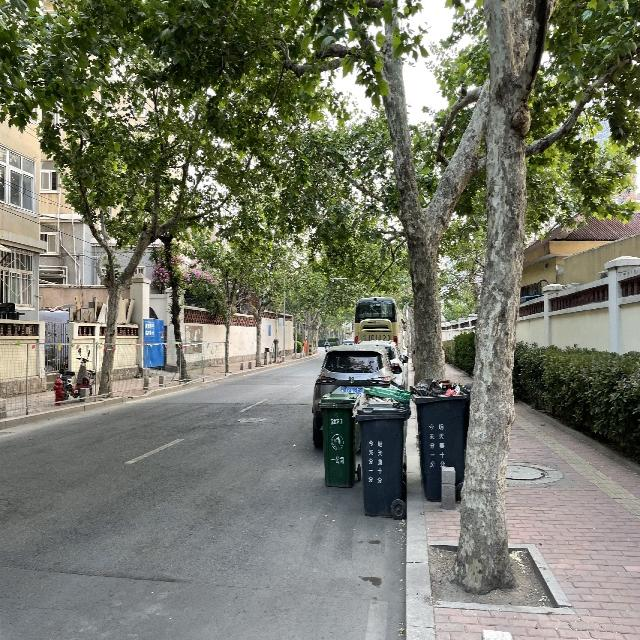garbage_bin: (317, 391, 359, 487)
overflow: (354, 385, 412, 518), (411, 377, 468, 501)
